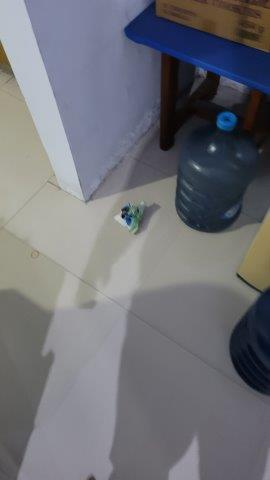kertas: (110, 201, 151, 236)
